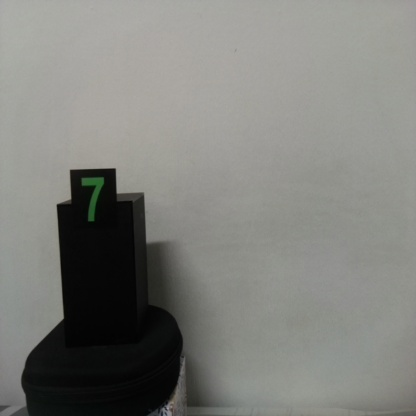id_7: (70, 168, 117, 245)
